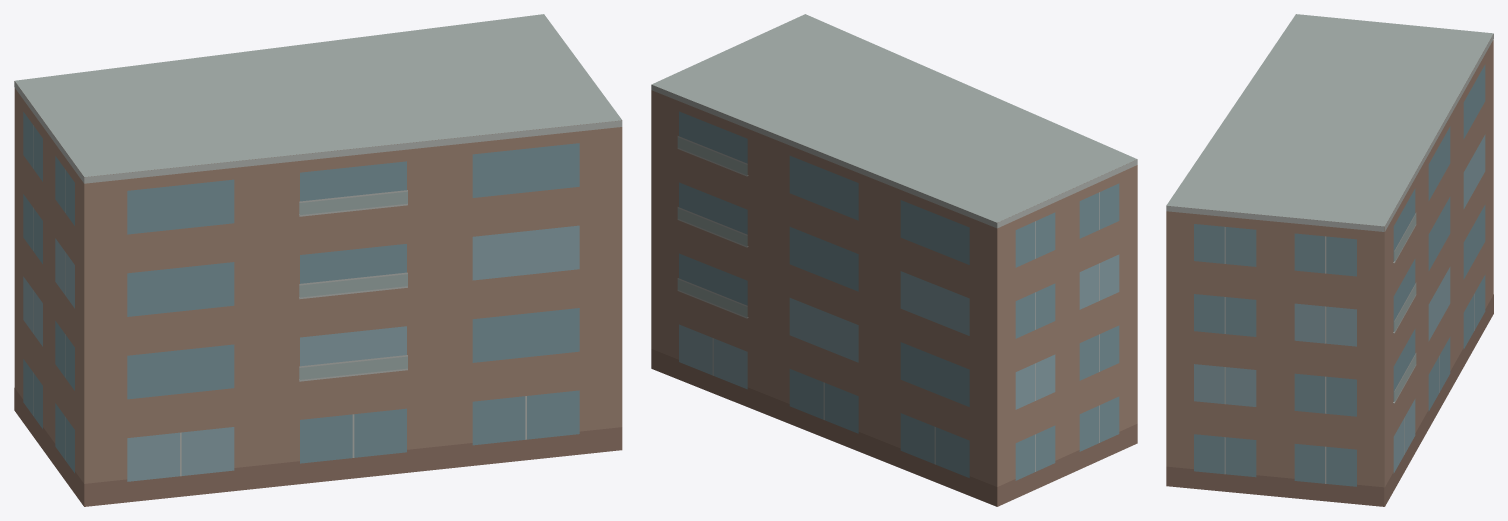
The model's file is survey-upis-32761314.glb.
The picture shows the model from 3 angles, left to right: view 1: azimuth 30°, elevation 25°; view 2: azimuth 150°, elevation 25°; view 3: azimuth 270°, elevation 25°; orthographic projection. The views are drawn at different scales.
Parts seen in each view (by area): view 1: survey-upis-32761314.tmp; view 2: survey-upis-32761314.tmp; view 3: survey-upis-32761314.tmp.
Part boxes in pixels (x1,y1,x2,y2): survey-upis-32761314.tmp: (14,14,622,506); survey-upis-32761314.tmp: (651,14,1137,506); survey-upis-32761314.tmp: (1166,14,1493,506).
Bounding box in the file's own units: 19.92 × 12.25 × 12.98.
